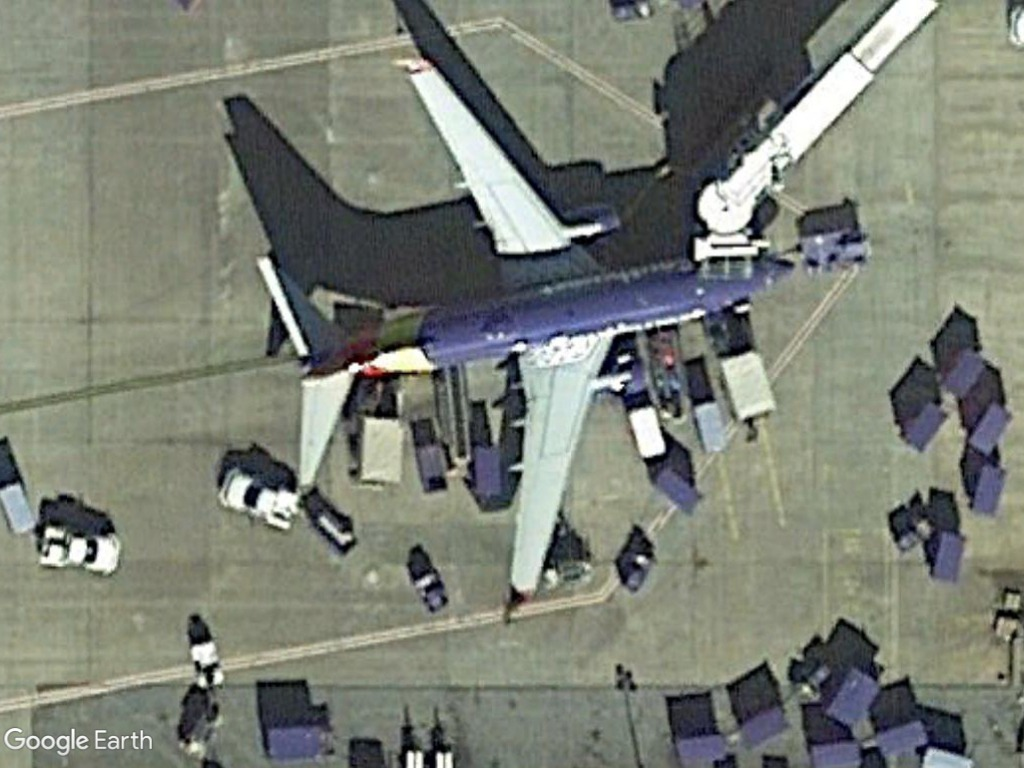airliner: (233, 54, 799, 608)
